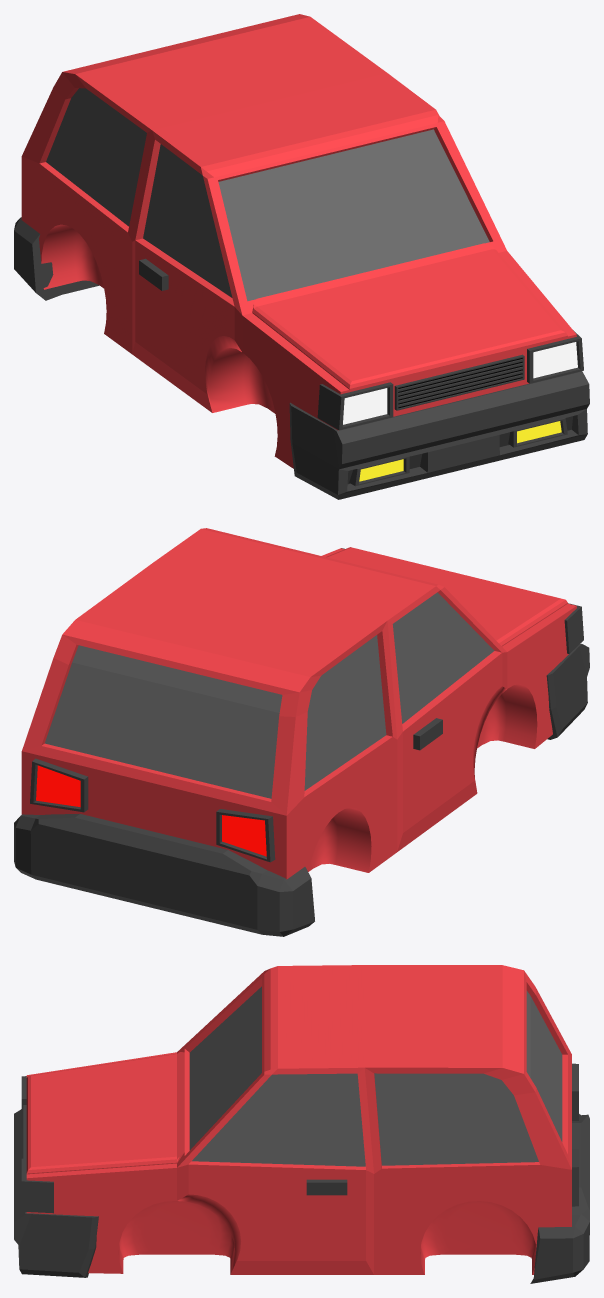
The model's file is CarModel2_body.glb.
3 views of the same model, one above another, from view 1: azimuth 30°, elevation 25°; view 2: azimuth 150°, elevation 25°; view 3: azimuth 270°, elevation 25° (orthographic). The views are drawn at different scales.
Parts seen in each view (by area): view 1: CarModel2.001, Cubo.015, Cubo.016, Cubo.017, Cubo.018; view 2: CarModel2.001, Cubo.018, Cubo.019, Cubo.015, Cubo.016, Object.008; view 3: CarModel2.001, Cubo.015, Cubo.018, Cubo.016, Cubo.019, Object.008.
Boxes of the visible parts, left/top/right/bottom form: CarModel2.001: left=21, top=14, right=576, bottom=468; Cubo.015: left=289, top=371, right=589, bottom=499; Cubo.016: left=317, top=330, right=583, bottom=486; Cubo.017: left=394, top=354, right=524, bottom=410; Cubo.018: left=14, top=217, right=99, bottom=300; CarModel2.001: left=21, top=528, right=576, bottom=879; Cubo.018: left=14, top=814, right=314, bottom=936; Cubo.019: left=30, top=758, right=275, bottom=862; Cubo.015: left=546, top=643, right=589, bottom=739; Cubo.016: left=341, top=548, right=583, bottom=653; Object.008: left=413, top=718, right=442, bottom=750; CarModel2.001: left=26, top=965, right=571, bottom=1274; Cubo.015: left=14, top=1109, right=98, bottom=1277; Cubo.018: left=530, top=1114, right=589, bottom=1283; Cubo.016: left=21, top=1076, right=53, bottom=1213; Cubo.019: left=572, top=1063, right=578, bottom=1206; Object.008: left=306, top=1179, right=347, bottom=1195.
Size of the model in its own units: 2.5 by 2 by 4.97.
